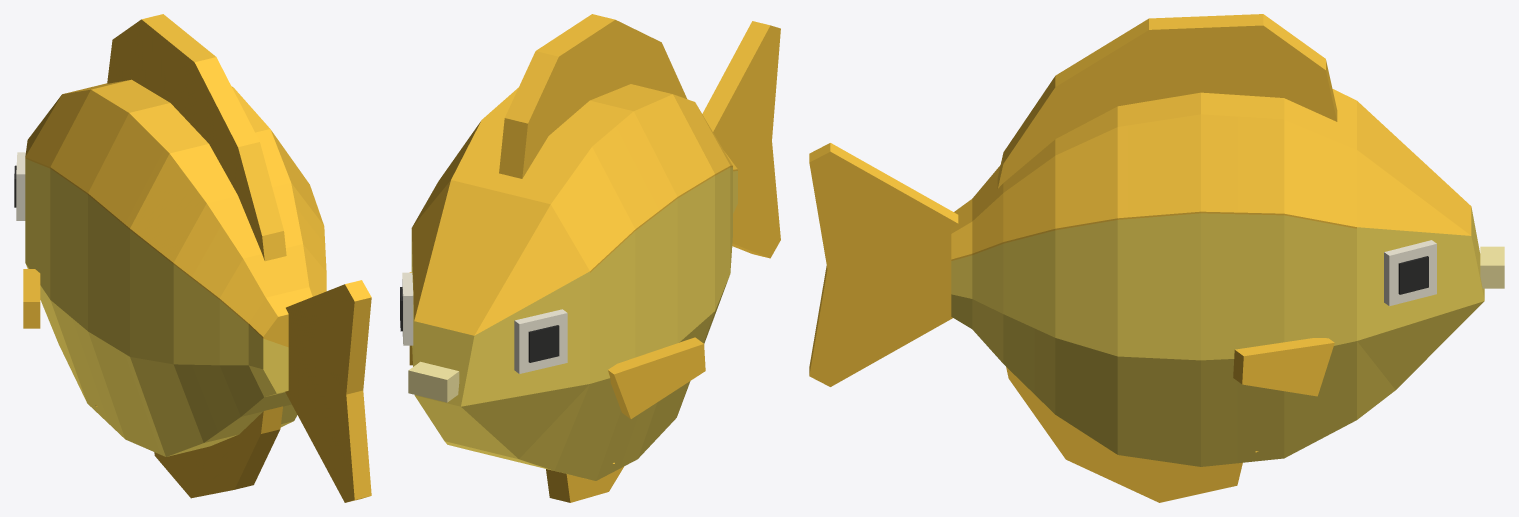
Rendered from YellowTang.obj.
The picture shows the model from 3 angles, left to right: view 1: azimuth 30°, elevation 25°; view 2: azimuth 150°, elevation 25°; view 3: azimuth 270°, elevation 25°; orthographic projection. The views are drawn at different scales.
Parts seen in each view (by area): view 1: YellowTang; view 2: YellowTang; view 3: YellowTang.
Boxes of the visible parts, x1,y1,x2,y2 form: YellowTang: (14, 14, 371, 502); YellowTang: (400, 14, 780, 502); YellowTang: (809, 14, 1504, 502).
Size of the model in its own units: 5.71 by 8.73 by 11.5.
1 material, 1 textured.
